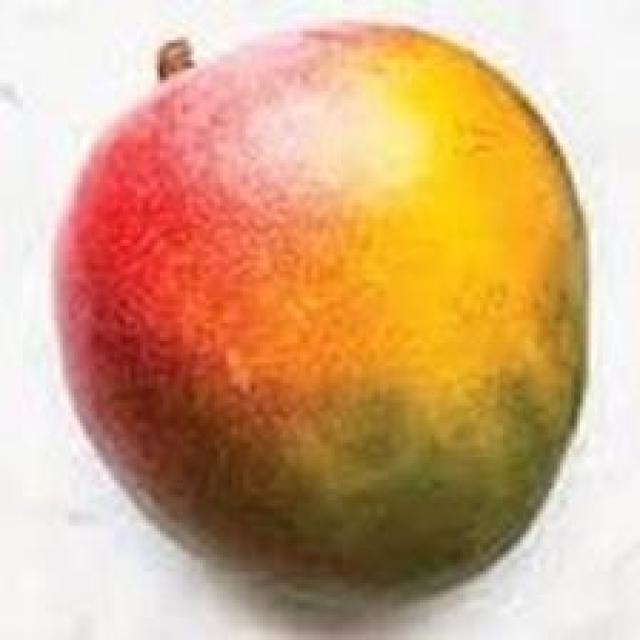Good_Mango: (49, 20, 591, 609)
